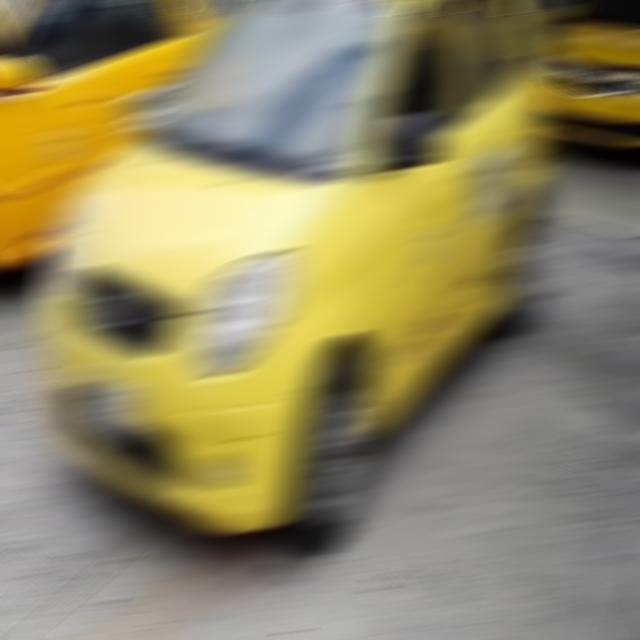Taxi: (44, 14, 560, 553)
